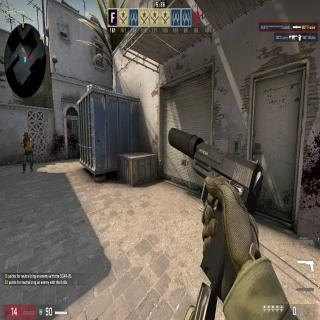CT-Body: (21, 132, 34, 172)
CT-Head: (24, 132, 28, 140)
